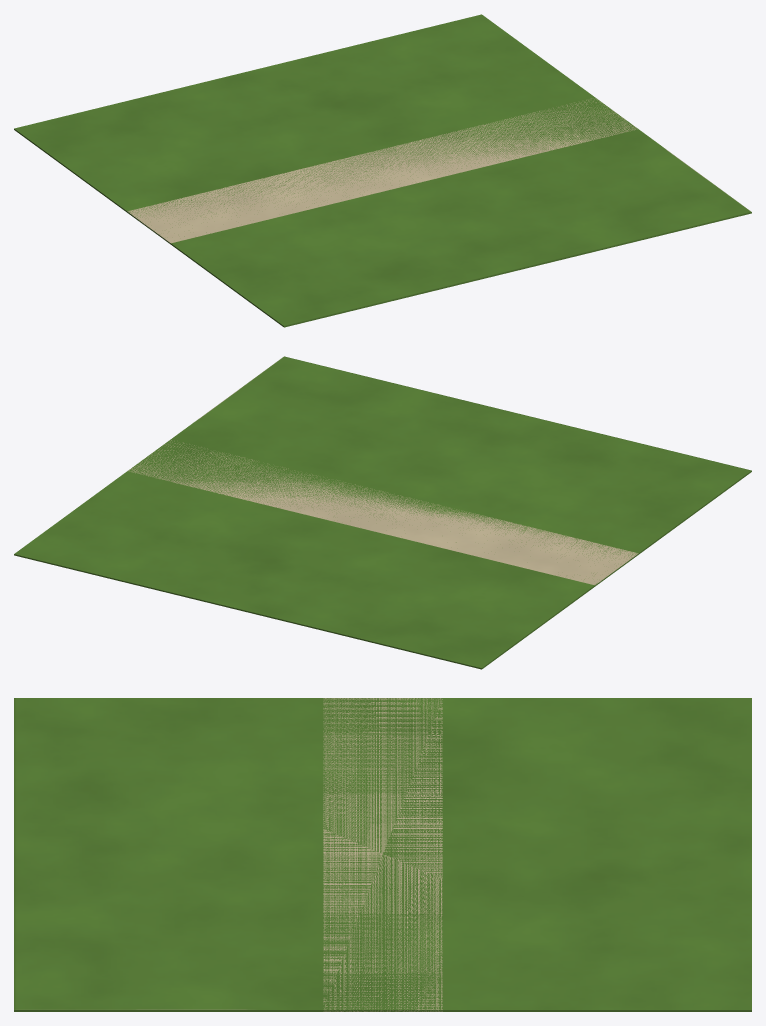
File: pv_dvur_trava.glb
3 renders of one model, top to bottom at view 1: azimuth 30°, elevation 25°; view 2: azimuth 150°, elevation 25°; view 3: azimuth 270°, elevation 25°, orthographic. The views are drawn at different scales.
Parts seen in each view (by area): view 1: dum; view 2: dum; view 3: dum.
Boxes of the visible parts, x1,y1,x2,y2 form: dum: (14,14,751,327); dum: (14,356,751,669); dum: (14,698,751,1011).
Size of the model in its own units: 14.8 by 0.0397 by 14.8.
1 material, 1 textured.
